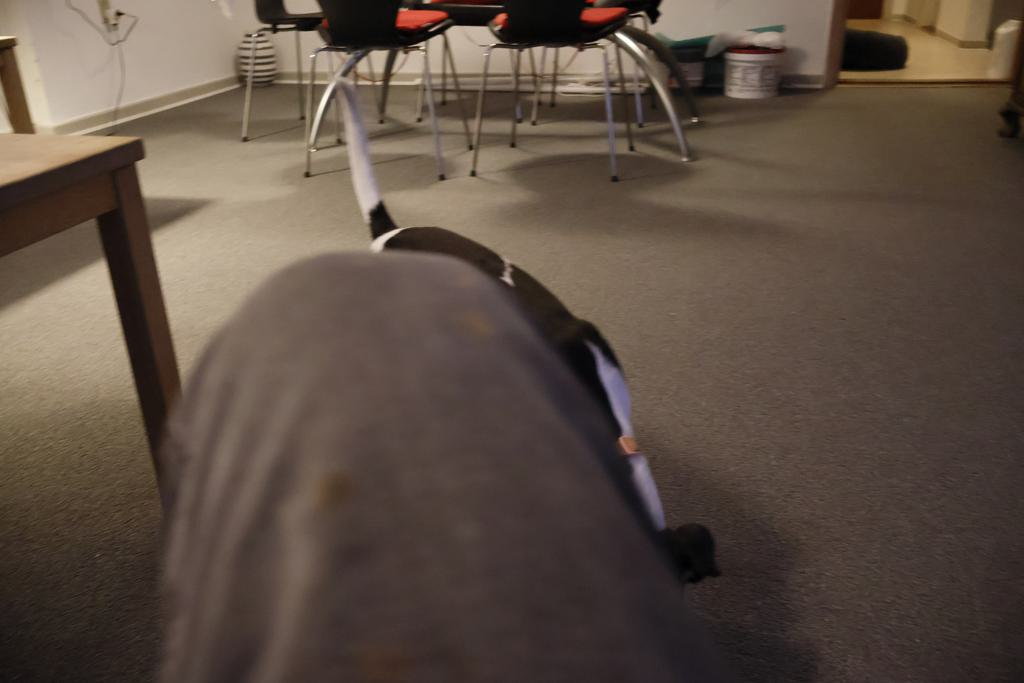Dog: (323, 61, 732, 609)
Humanoid: (92, 217, 750, 683)
